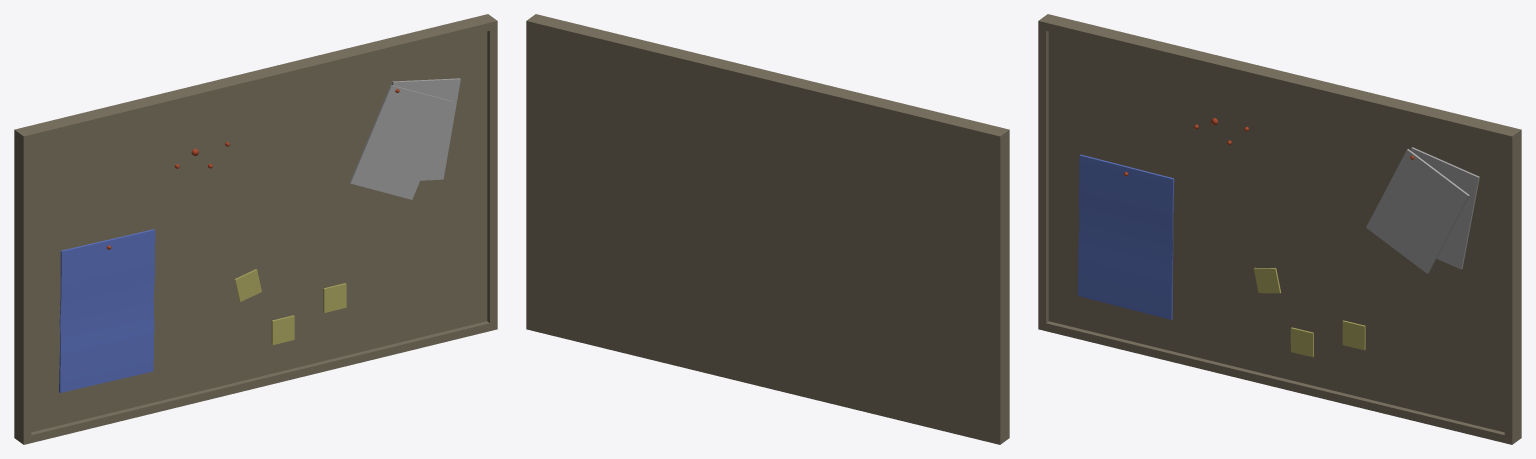
File: SM_Corkboard.fbx
3 views of the same model, side by side, from view 1: azimuth 30°, elevation 25°; view 2: azimuth 150°, elevation 25°; view 3: azimuth 330°, elevation 25° (orthographic).
Parts seen in each view (by area): view 1: Corkboard, Calendar, Paper1, Paper0, Note0, Note2, Note3; view 2: Corkboard; view 3: Corkboard, Calendar, Paper1, Paper0, Note0, Note2, Note3.
Part boxes in pixels (x1,y1,x2,y2): Corkboard: (14,14,497,444); Calendar: (59,229,155,392); Paper1: (349,85,452,199); Paper0: (391,78,460,180); Note0: (323,283,346,312); Note2: (271,315,294,344); Note3: (234,269,261,301); Corkboard: (526,14,1009,444); Corkboard: (1038,14,1521,444); Calendar: (1078,154,1174,319); Paper1: (1366,149,1469,273); Paper0: (1411,147,1479,269); Note0: (1342,320,1365,350); Note2: (1290,327,1313,357); Note3: (1254,268,1280,293).
Size of the model in its own units: 398 by 248 by 15.12.
